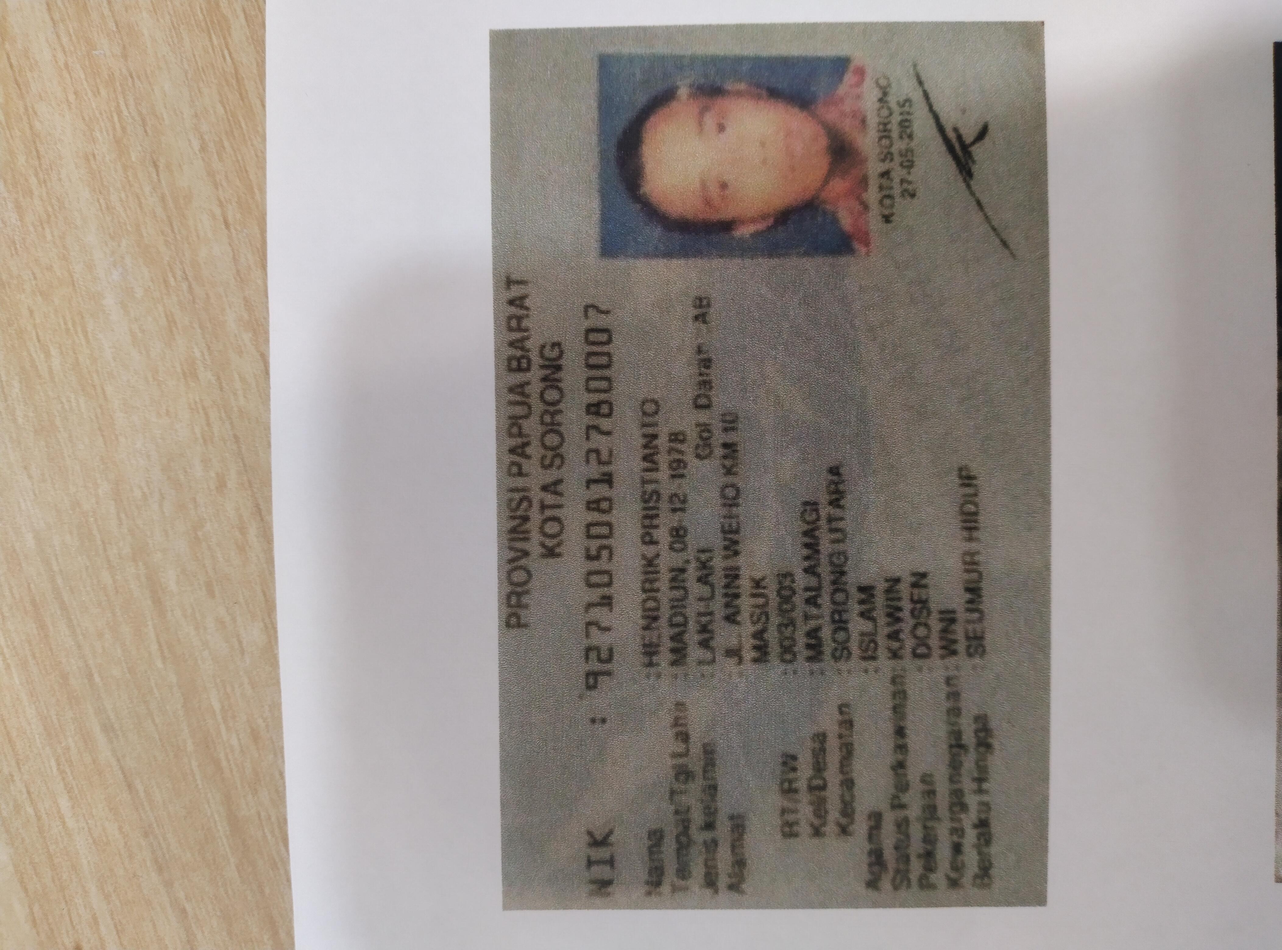ID-card: (56, 363, 1252, 772)
